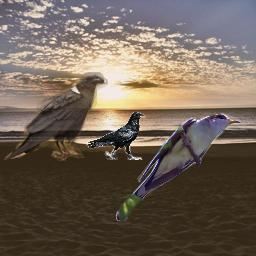Crow: (4, 72, 108, 164), (86, 112, 146, 160)
Cuckoo: (116, 113, 241, 221)
